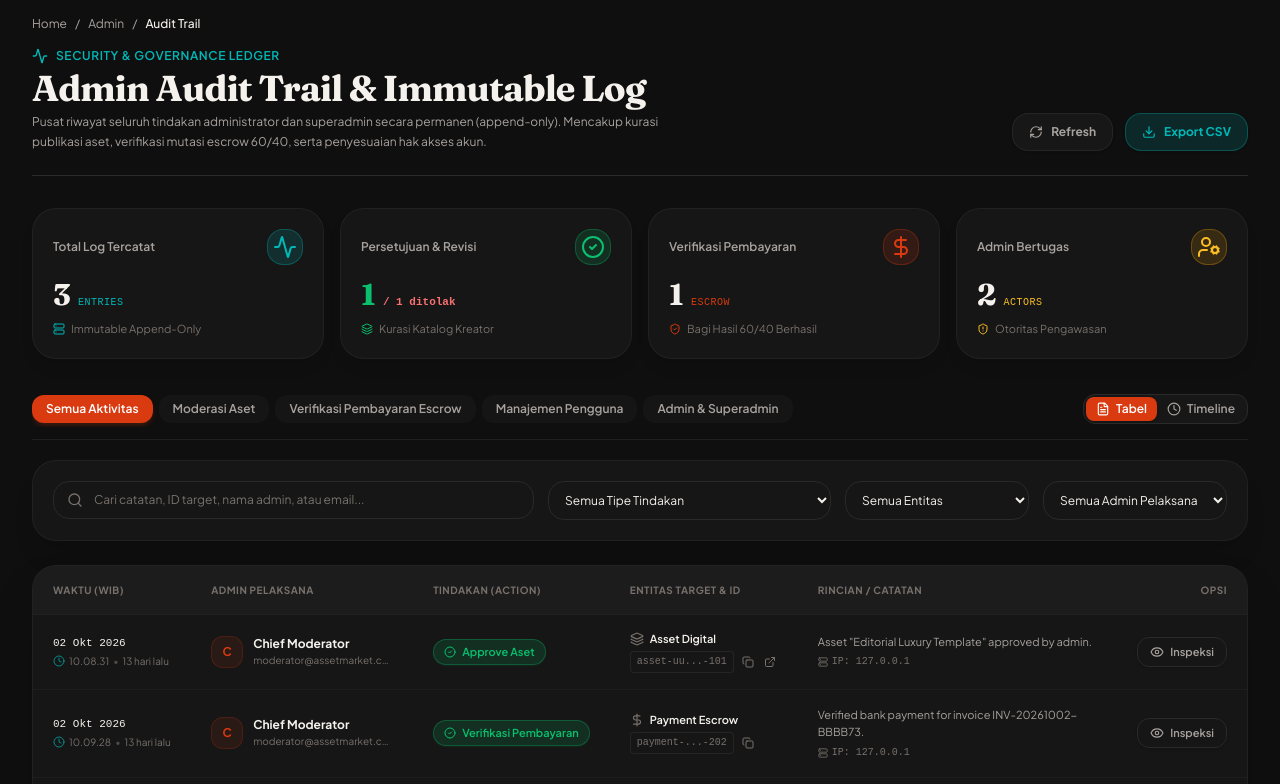
Test case: AdminAuditTrailPage.vue Component Integration › switches to timeline view mode
The image size is (1280, 784).
What coordinates should you click on to do the following:
click the button "Timeline"
I would click on:
 (1201, 408)
Its box is [1157, 396, 1245, 420].
(page scrolled)
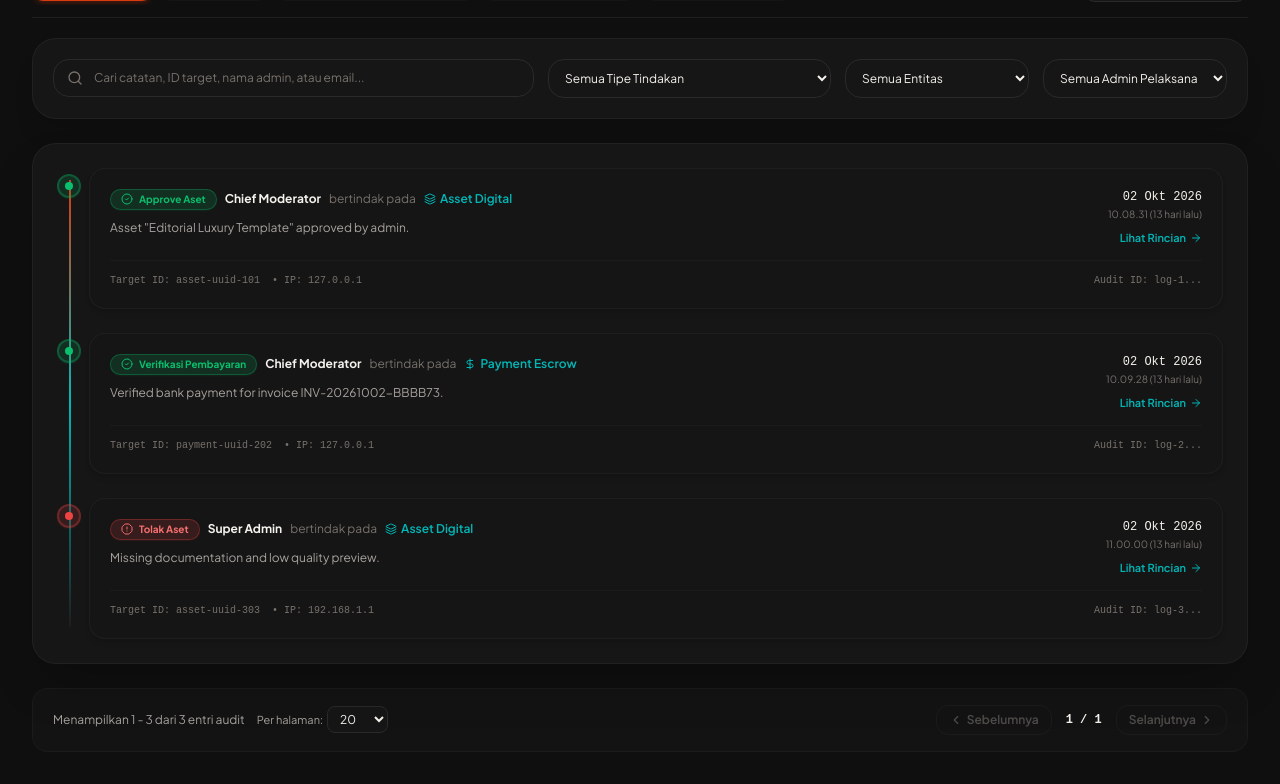
Result: the element with class "from-primary" is shown at [69, 180, 71, 626]
